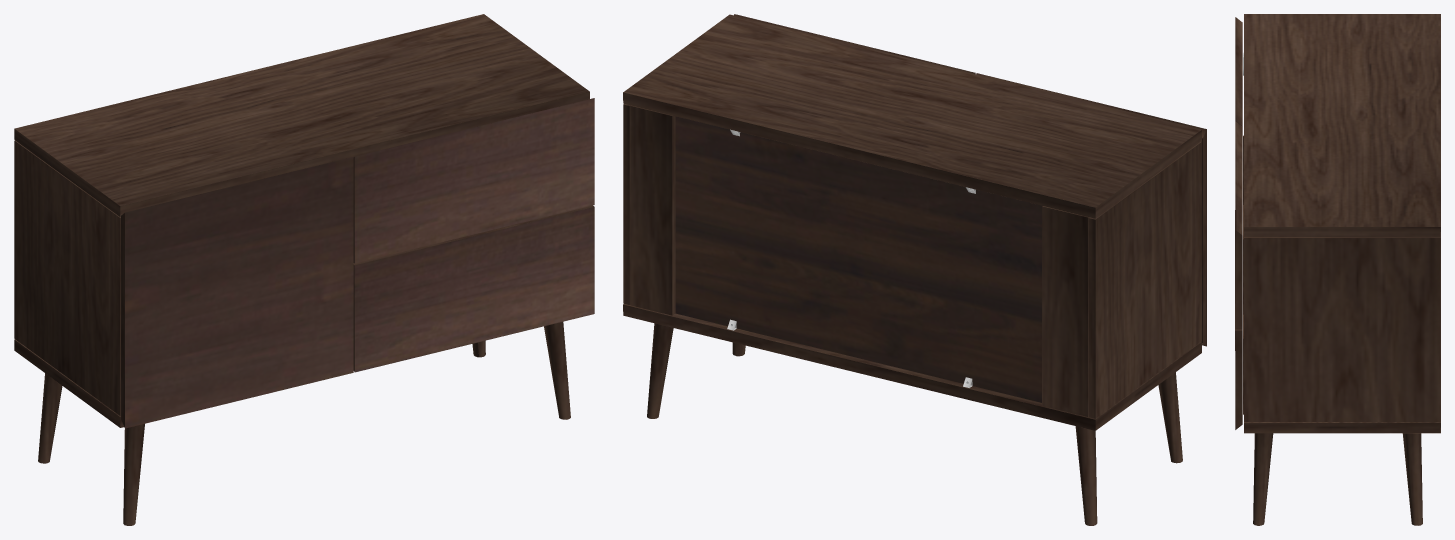
3 renders of one model, left to right at view 1: azimuth 30°, elevation 25°; view 2: azimuth 150°, elevation 25°; view 3: azimuth 270°, elevation 25°, orthographic. The views are drawn at different scales.
Visible parts, largest first — view 1: visual_RootNode; view 2: visual_RootNode; view 3: visual_RootNode.
Boxes of the visible parts, x1=… form: visual_RootNode: x1=14, y1=14, x2=594, y2=525; visual_RootNode: x1=623, y1=14, x2=1206, y2=525; visual_RootNode: x1=1235, y1=14, x2=1440, y2=525.
Bounding box in the file's own units: 0.9893 × 0.4038 × 0.6591.
Materials: 1 (1 with a texture image).
